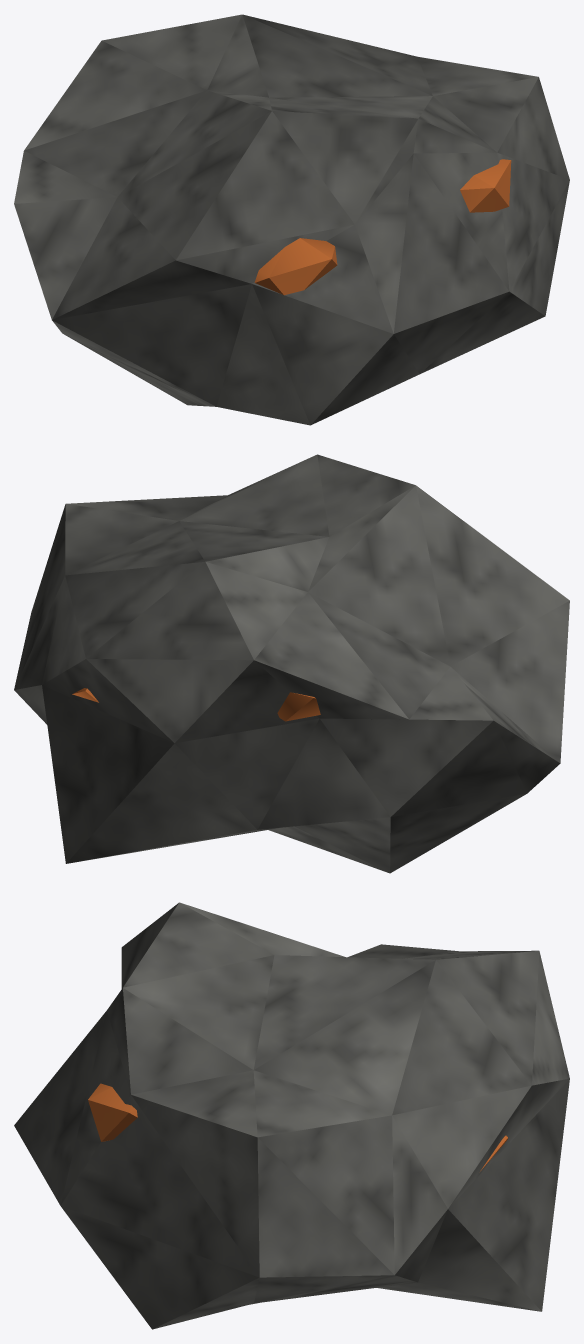
Rendered from SM_OreDeposit_Iron.fbx.
3 renders of one model, top to bottom at view 1: azimuth 30°, elevation 25°; view 2: azimuth 150°, elevation 25°; view 3: azimuth 270°, elevation 25°, orthographic. The views are drawn at different scales.
Parts seen in each view (by area): view 1: SM_OreDeposit_Iron; view 2: SM_OreDeposit_Iron; view 3: SM_OreDeposit_Iron.
Boxes of the visible parts, x1,y1,x2,y2 form: SM_OreDeposit_Iron: (14, 14, 569, 425); SM_OreDeposit_Iron: (14, 454, 569, 873); SM_OreDeposit_Iron: (14, 902, 569, 1329).
Size of the model in its own units: 5.37 by 3.26 by 4.56.
1 material, 1 textured.
